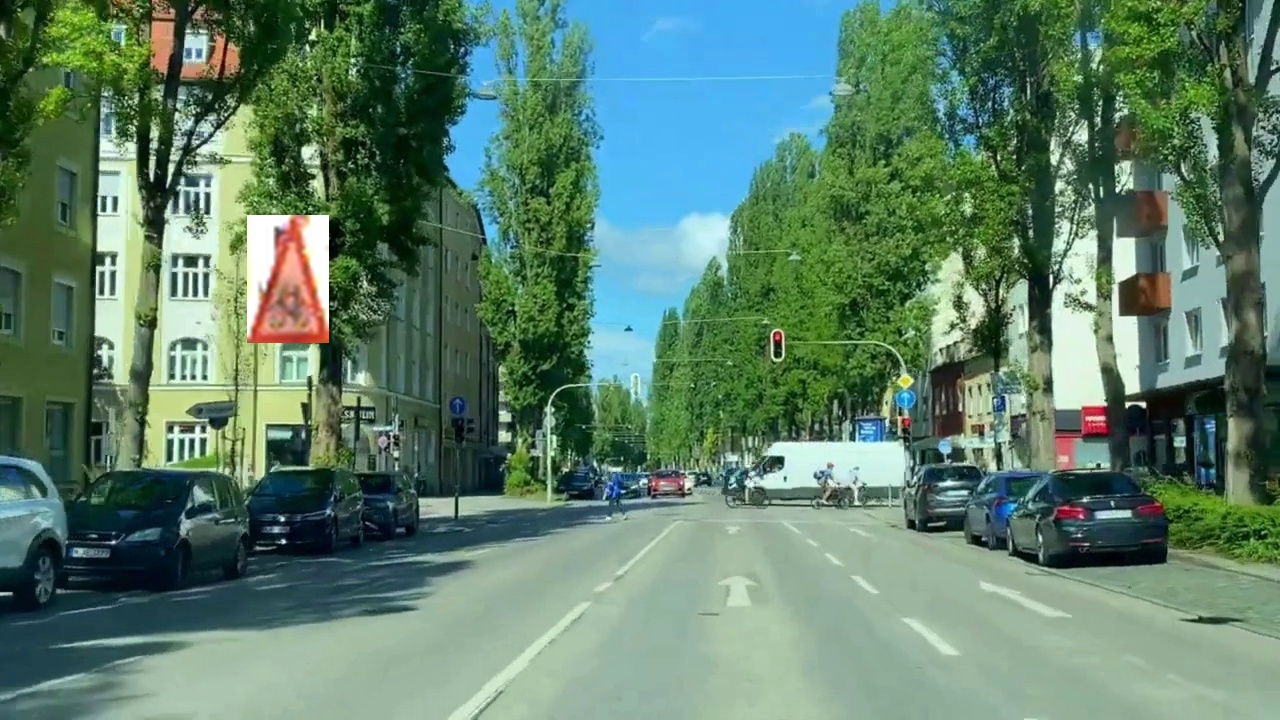Bicycles: (247, 215, 329, 343)
